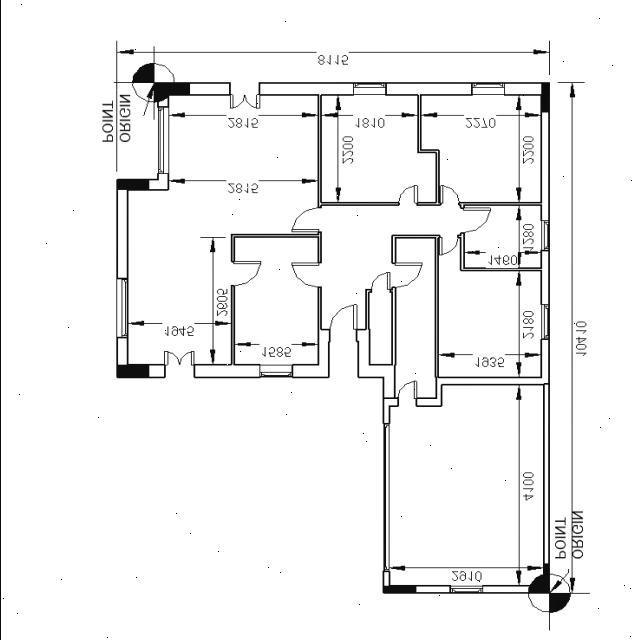Column: (153, 82, 189, 96), (116, 364, 148, 378), (115, 179, 148, 191), (382, 585, 416, 594), (540, 82, 549, 112), (542, 564, 549, 594)
Door: (327, 304, 357, 342), (291, 262, 321, 288), (290, 206, 320, 232), (460, 208, 490, 233), (391, 264, 421, 288), (230, 262, 260, 286), (396, 380, 416, 408), (439, 186, 458, 206), (371, 272, 388, 294), (398, 186, 416, 206), (438, 235, 456, 255)
Double-Door: (229, 82, 259, 109), (164, 352, 194, 378)
Window: (382, 424, 389, 574), (157, 108, 168, 174), (116, 278, 128, 338), (258, 364, 292, 378), (353, 82, 385, 96), (472, 83, 504, 95), (539, 221, 549, 251), (540, 304, 548, 340), (449, 586, 482, 594)
